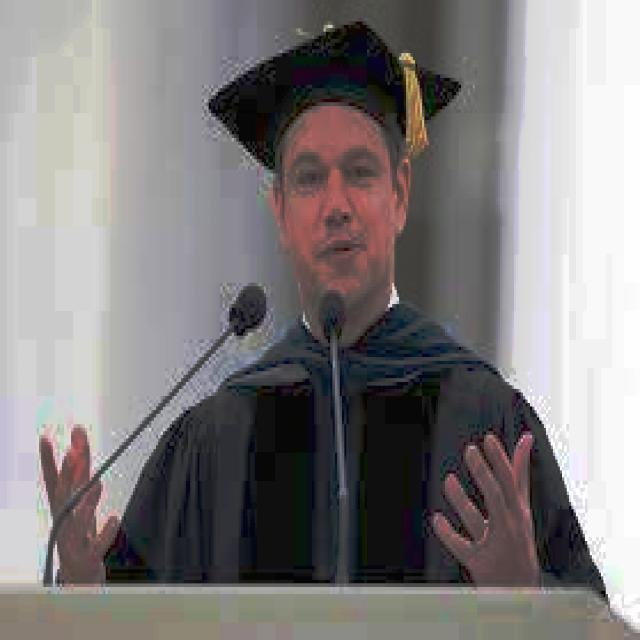TOPI: (202, 7, 461, 173)
